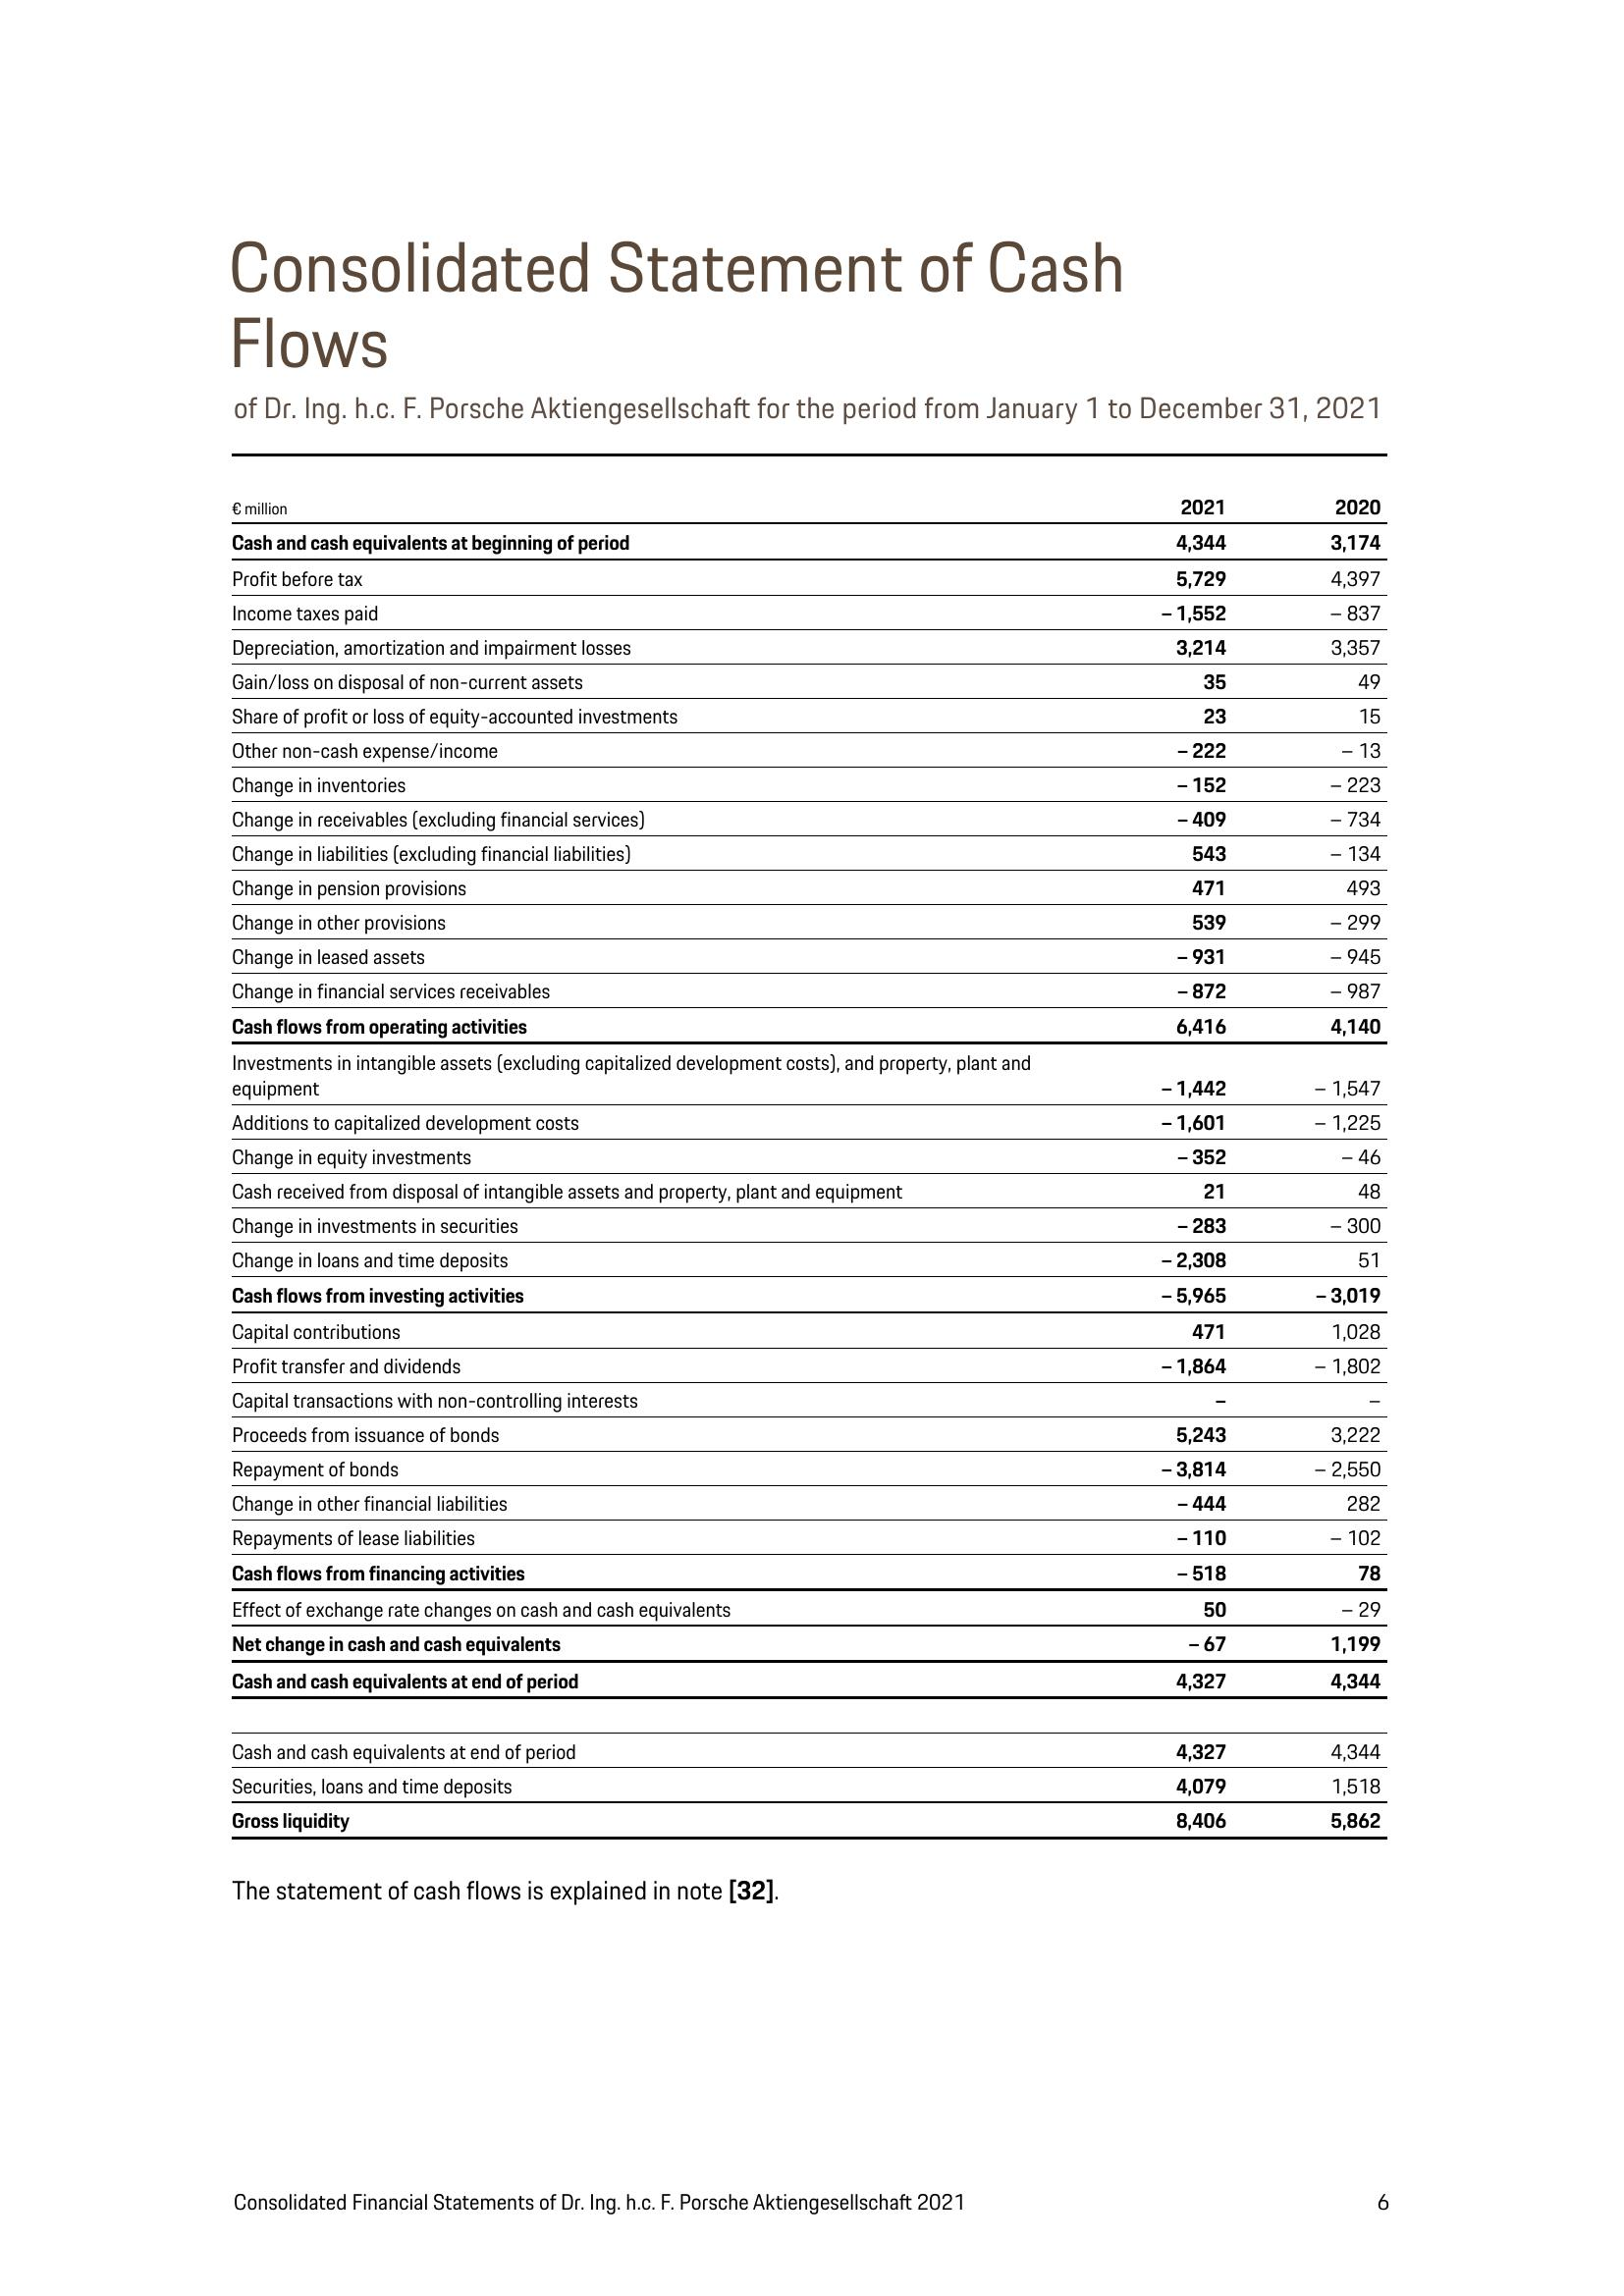Footer: (0, 2148, 1624, 2296)
Header: (0, 0, 1624, 183)
Table: (146, 425, 1443, 1874)
